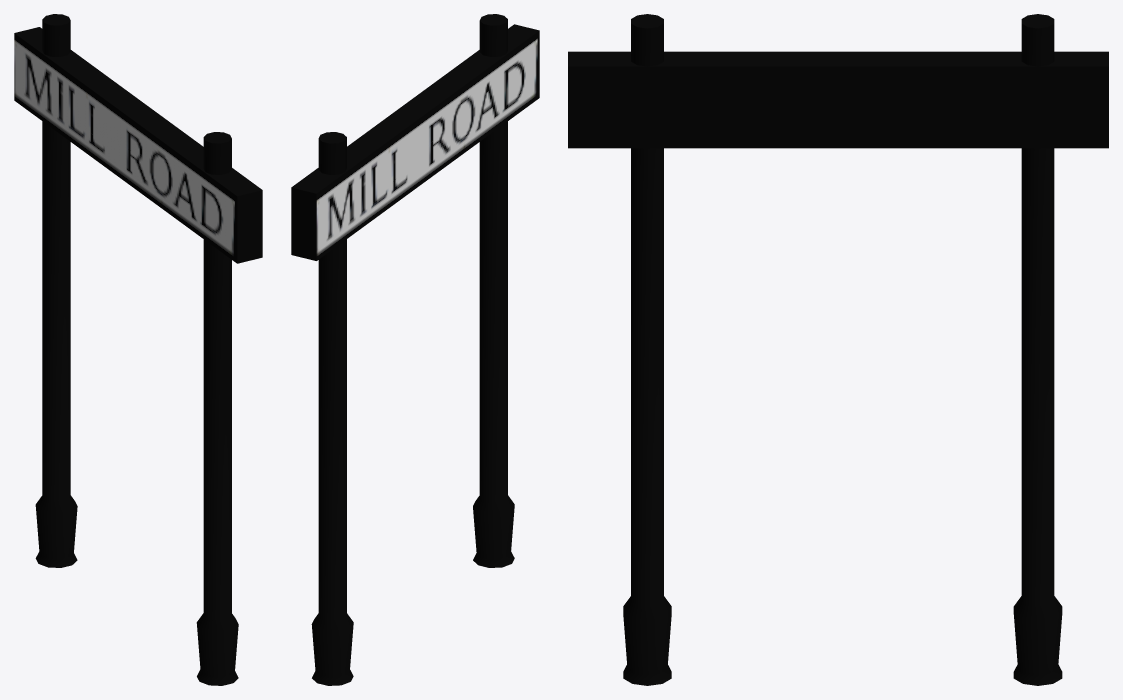
3 renders of one model, left to right at view 1: azimuth 30°, elevation 25°; view 2: azimuth 150°, elevation 25°; view 3: azimuth 270°, elevation 25°, orthographic. The views are drawn at different scales.
Visible parts, largest first — view 1: Cylinder002; view 2: Cylinder002; view 3: Cylinder002.
Part boxes in pixels (left/top/right/bottom): Cylinder002: left=14, top=14, right=262, bottom=685; Cylinder002: left=291, top=14, right=539, bottom=685; Cylinder002: left=568, top=14, right=1108, bottom=685.
Bounding box in the file's own units: 1.42 × 20.01 × 15.
